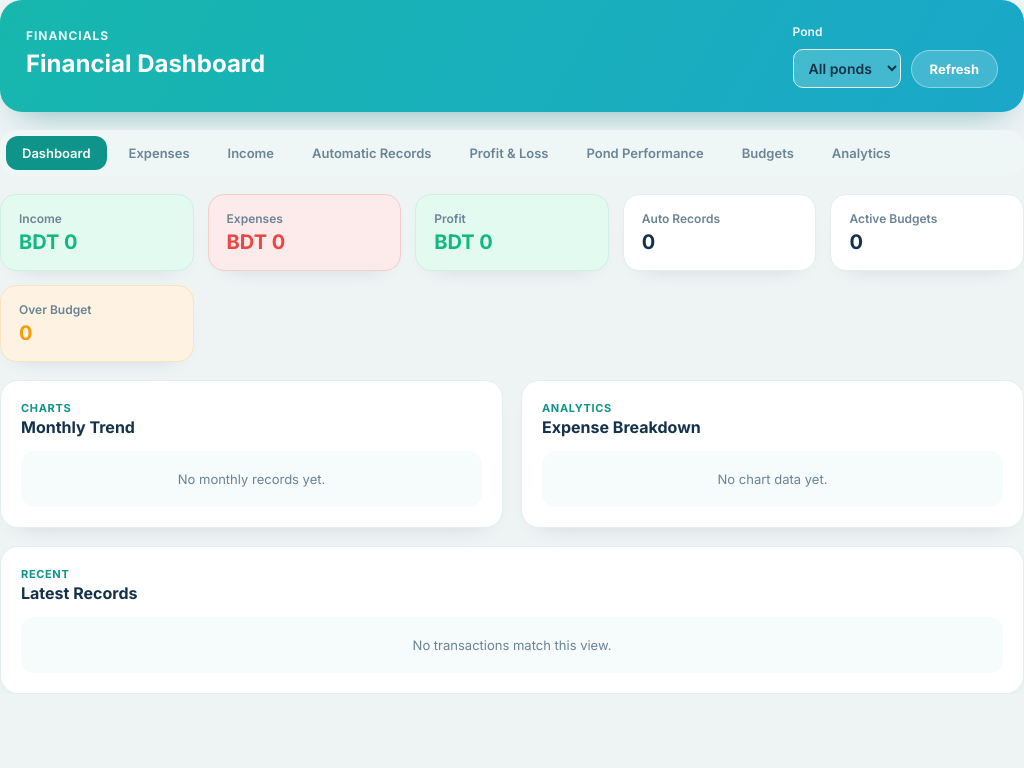
Test case: FinancialManagement › renders pond financial performance
Check: the heading "Financial Dashboard" is shown, box [26,49,265,78]
Step 1. Click the button "Pond Performance" → (645, 153), box [570,136,720,170]
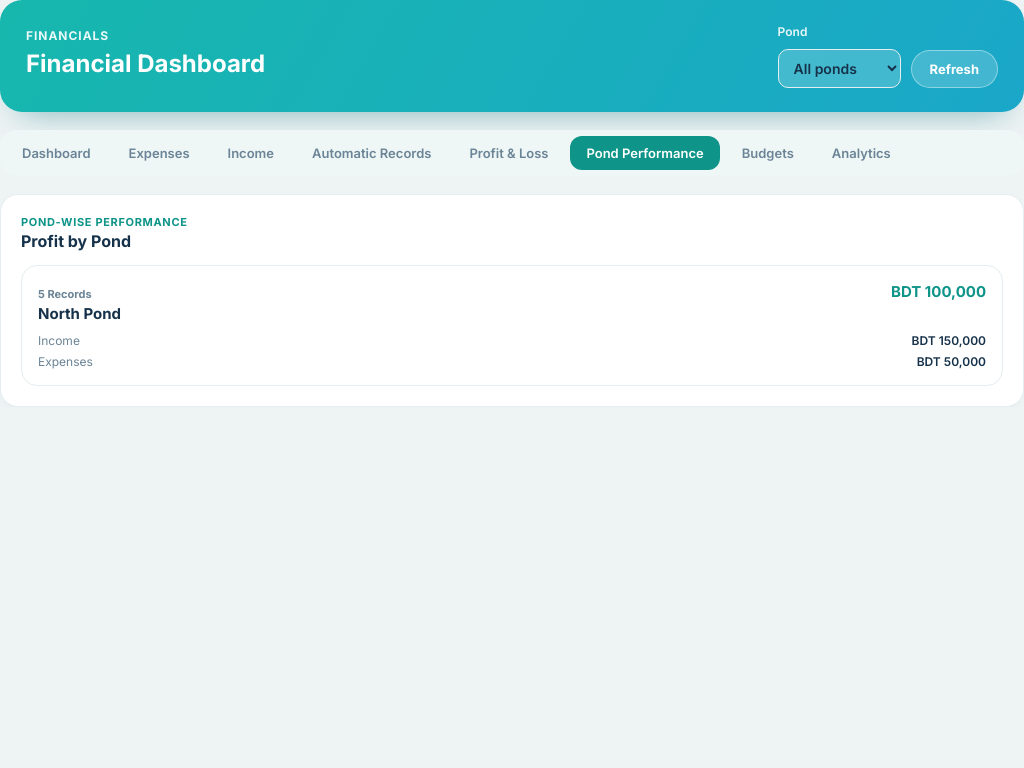
Check: the heading "Profit by Pond" is shown, box [21,231,131,251]
Check: the text "5 records" is shown, box [38,287,92,301]
Check: the text "BDT 100,000" is shown, box [891,282,986,301]
